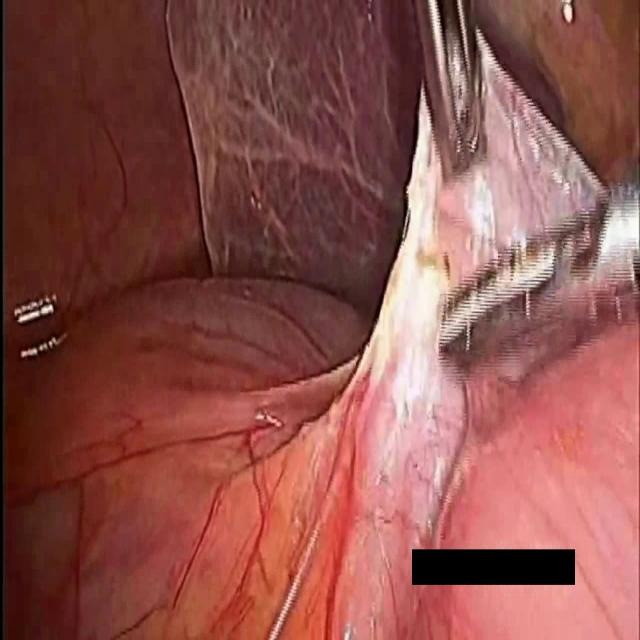surgical-area: (398, 548, 640, 639)
surgical-tool: (436, 175, 640, 377), (411, 0, 492, 181)
